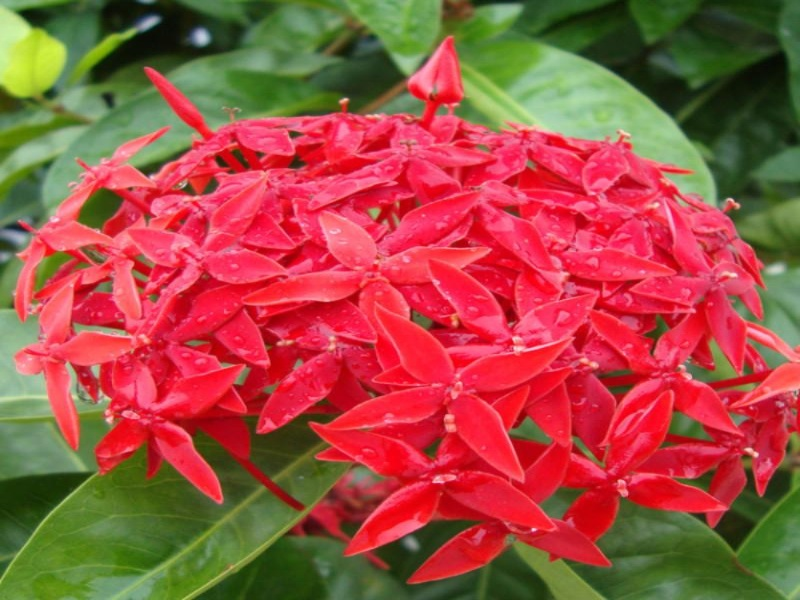Ixora: (9, 27, 800, 588)
